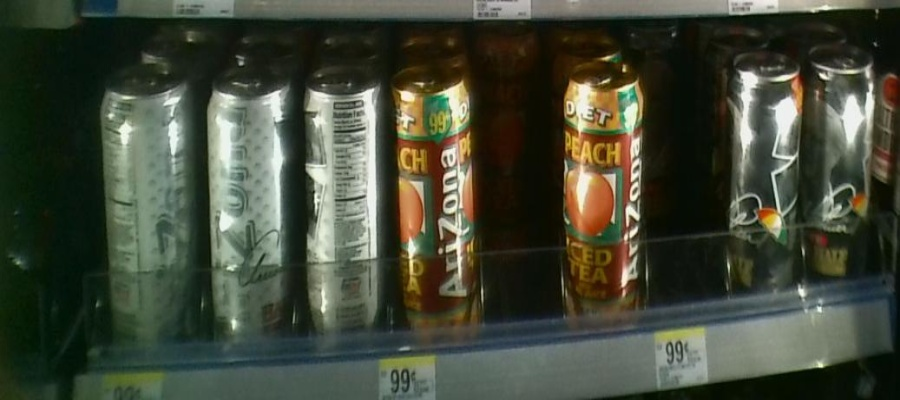bottle: (94, 51, 200, 359), (549, 47, 654, 331), (204, 36, 294, 358), (393, 55, 480, 358), (299, 60, 387, 347), (723, 36, 804, 302), (806, 45, 878, 295)
